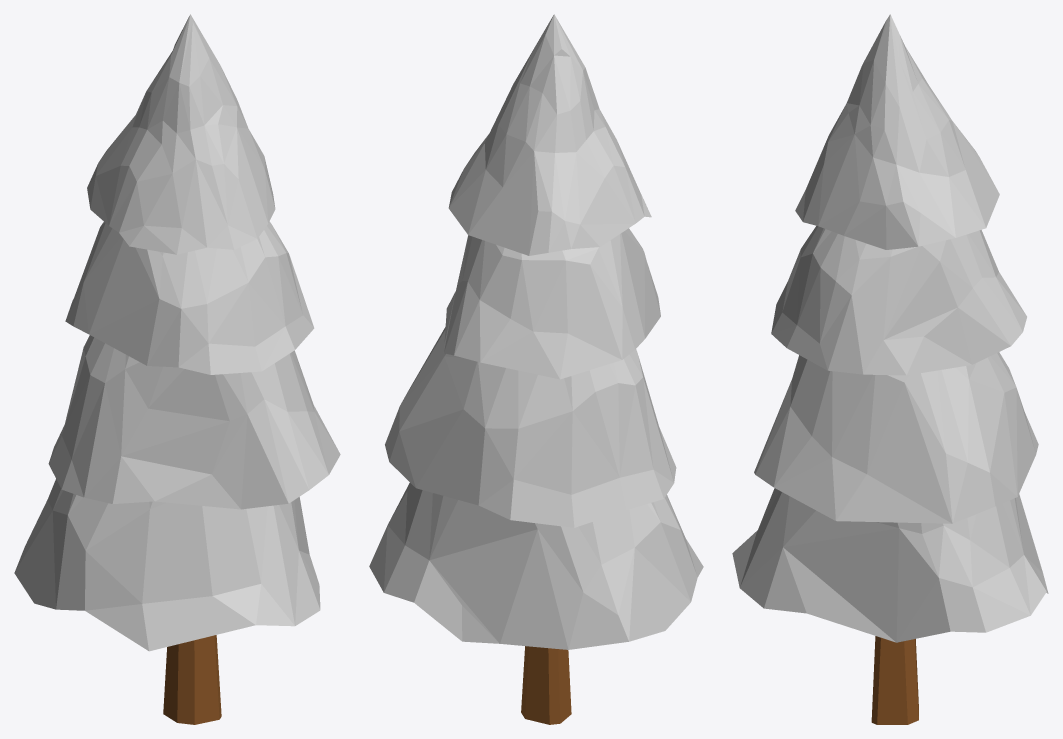
Rendered from arbol.glb.
The picture shows the model from 3 angles, left to right: view 1: azimuth 30°, elevation 25°; view 2: azimuth 150°, elevation 25°; view 3: azimuth 270°, elevation 25°; orthographic projection.
Parts seen in each view (by area): view 1: Cube.001; view 2: Cube.001; view 3: Cube.001.
Boxes of the visible parts, x1=… form: Cube.001: x1=14, y1=14, x2=340, y2=724; Cube.001: x1=369, y1=14, x2=703, y2=724; Cube.001: x1=732, y1=14, x2=1048, y2=724.
Size of the model in its own units: 0.347 by 0.8468 by 0.3472.
